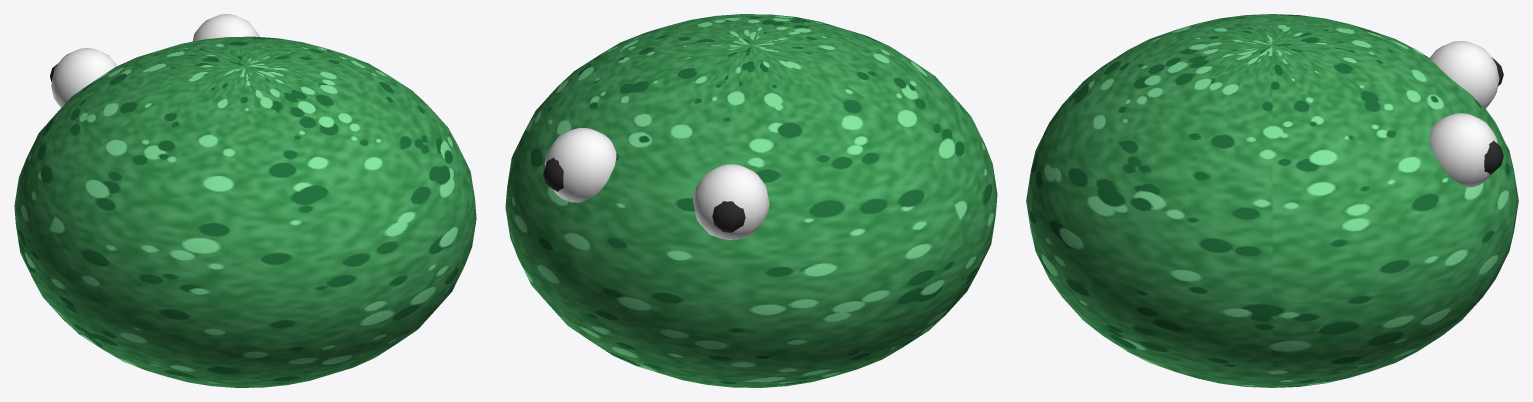
Rendered from mercury-slime.glb.
3 renders of one model, left to right at view 1: azimuth 30°, elevation 25°; view 2: azimuth 150°, elevation 25°; view 3: azimuth 270°, elevation 25°, orthographic. The views are drawn at different scales.
Visible parts, largest first — view 1: Body, Eye, Eye.001; view 2: Body, Eye, Eye.001, Pupil, Pupil.001; view 3: Body, Eye.001, Eye, Pupil.001.
Boxes of the visible parts, x1=… form: Body: x1=14, y1=36, x2=476, y2=387; Eye: x1=51, y1=48, x2=116, y2=107; Eye.001: x1=192, y1=14, x2=259, y2=41; Body: x1=505, y1=14, x2=997, y2=387; Eye: x1=693, y1=164, x2=769, y2=239; Eye.001: x1=544, y1=128, x2=616, y2=202; Pupil: x1=712, y1=201, x2=745, y2=232; Pupil.001: x1=543, y1=158, x2=563, y2=191; Body: x1=1026, y1=14, x2=1518, y2=387; Eye.001: x1=1429, y1=113, x2=1497, y2=187; Eye: x1=1429, y1=41, x2=1499, y2=108; Pupil.001: x1=1484, y1=140, x2=1503, y2=174.
Size of the model in its own units: 1.44 by 1 by 1.44.
Materials: 3 (1 with a texture image).
